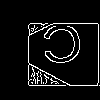C: (41, 24, 84, 72)
